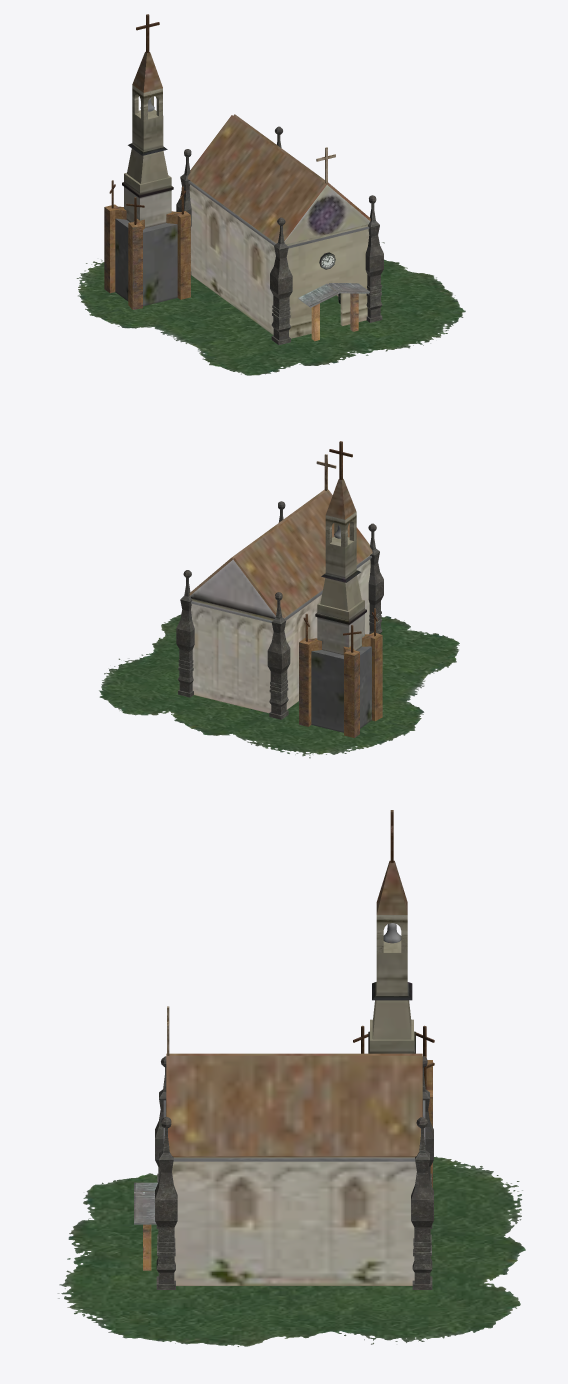
The model's file is igreja.glb.
The picture shows the model from 3 angles, top to bottom: view 1: azimuth 30°, elevation 25°; view 2: azimuth 150°, elevation 25°; view 3: azimuth 270°, elevation 25°; orthographic projection. The views are drawn at different scales.
Visible parts, largest first — view 1: igreja_partes:pCube12_igreja_estrutura_0, pCube1_ground_0, torre_igreja:base_torre_0, igreja_partes:pCube20_estrutura_02_0; view 2: igreja_partes:pCube12_igreja_estrutura_0, pCube1_ground_0, torre_igreja:base_torre_0, igreja_partes:pCube20_estrutura_02_0; view 3: igreja_partes:pCube12_igreja_estrutura_0, pCube1_ground_0, torre_igreja:base_torre_0, igreja_partes:pCube20_estrutura_02_0.
Boxes of the visible parts, box(x1,y1,x2,y2) form: igreja_partes:pCube12_igreja_estrutura_0: box(187, 114, 370, 341); pCube1_ground_0: box(76, 242, 465, 375); torre_igreja:base_torre_0: box(104, 14, 190, 309); igreja_partes:pCube20_estrutura_02_0: box(176, 126, 383, 344); igreja_partes:pCube12_igreja_estrutura_0: box(189, 489, 372, 713); pCube1_ground_0: box(99, 614, 459, 758); torre_igreja:base_torre_0: box(299, 441, 382, 737); igreja_partes:pCube20_estrutura_02_0: box(176, 454, 383, 719); igreja_partes:pCube12_igreja_estrutura_0: box(134, 1053, 425, 1285); pCube1_ground_0: box(57, 1156, 525, 1346); torre_igreja:base_torre_0: box(353, 810, 434, 1187); igreja_partes:pCube20_estrutura_02_0: box(155, 1006, 433, 1289).
Bounding box in the file's own units: 16.13 × 12.55 × 16.13.
9 materials, 9 textured.
